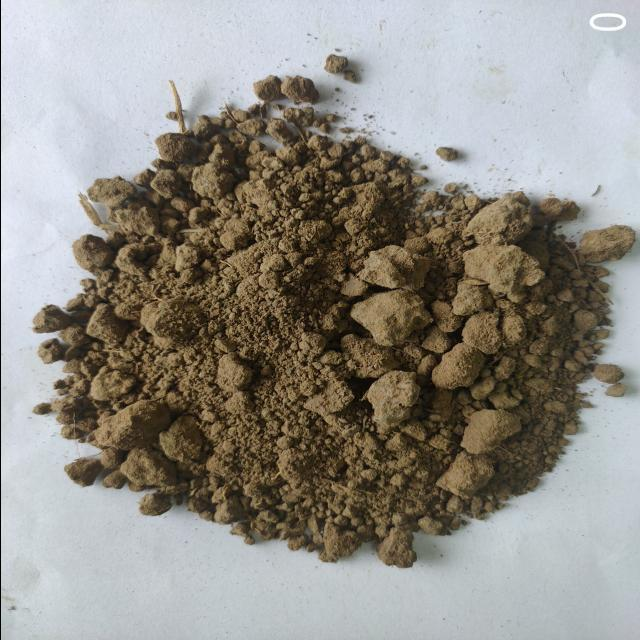soil: (153, 230, 535, 468)
